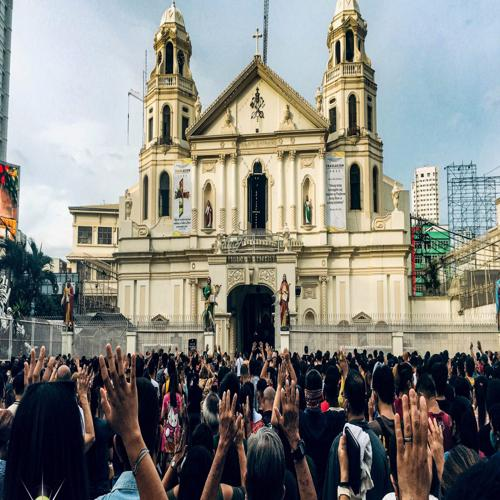Quiapo Church: (106, 1, 426, 342)
